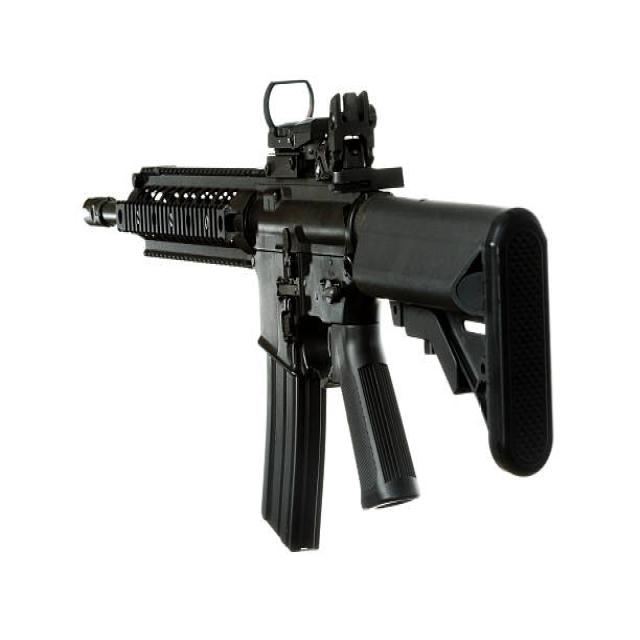rifle: (76, 73, 567, 580)
